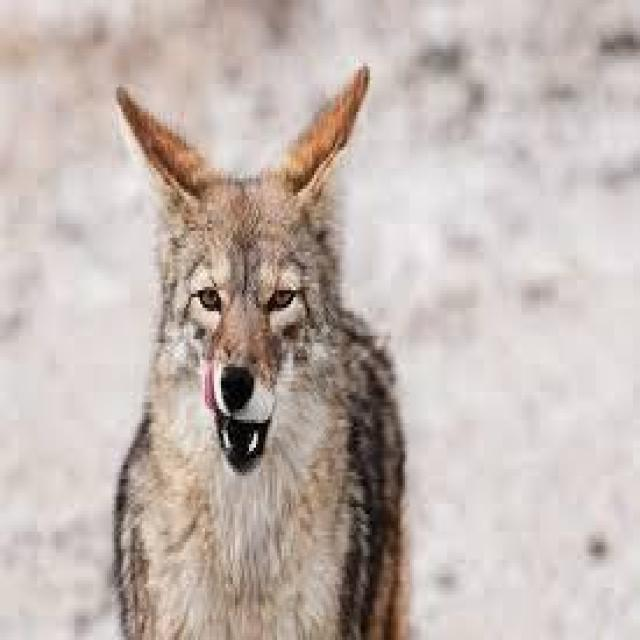Coyote: (99, 57, 419, 628)
